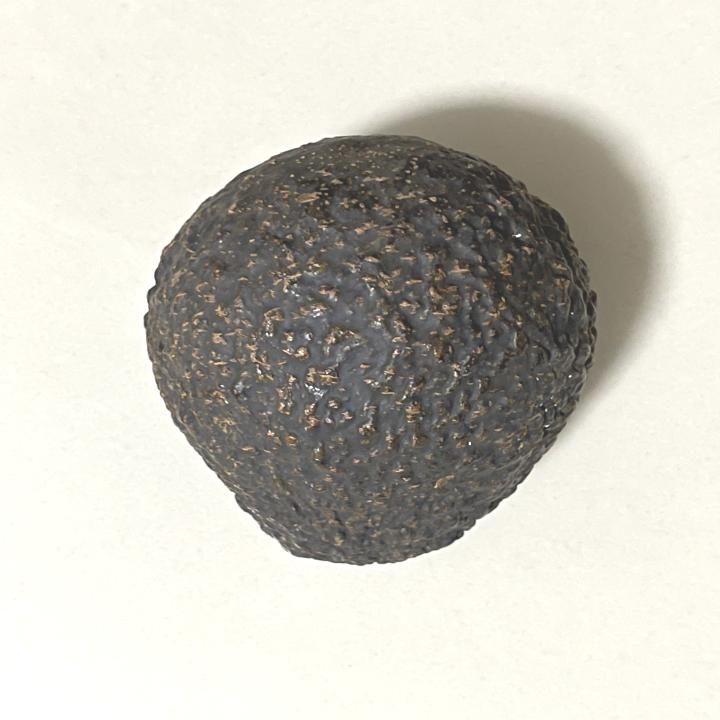Level2: (137, 129, 604, 576)
